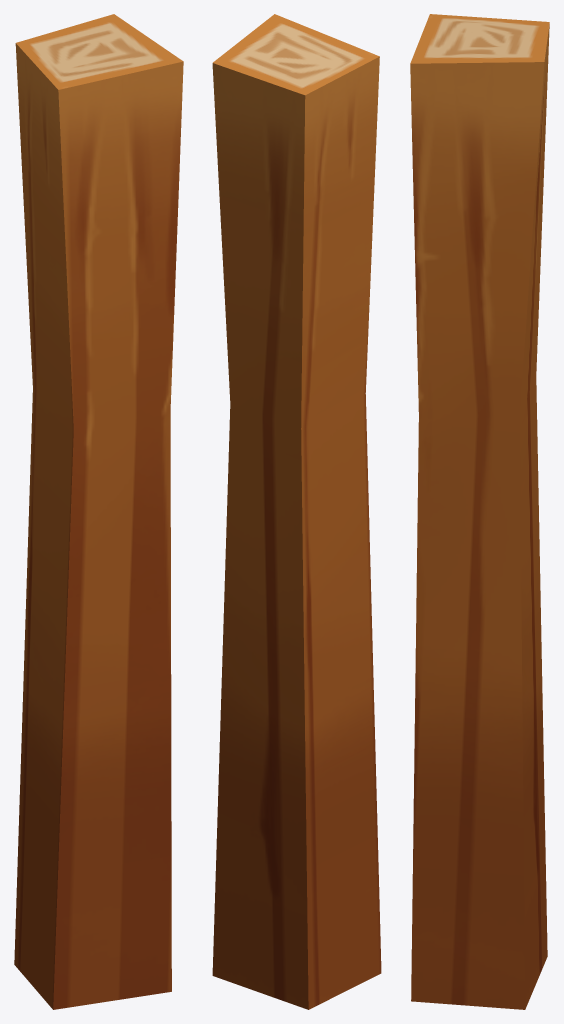
Rendered from port_fence_post.fbx.
The picture shows the model from 3 angles, left to right: view 1: azimuth 30°, elevation 25°; view 2: azimuth 150°, elevation 25°; view 3: azimuth 270°, elevation 25°; orthographic projection. The views are drawn at different scales.
Visible parts, largest first — view 1: port_fence_post; view 2: port_fence_post; view 3: port_fence_post.
Part boxes in pixels (bbox=[...]): port_fence_post: bbox=[14, 14, 183, 1009]; port_fence_post: bbox=[212, 14, 381, 1009]; port_fence_post: bbox=[410, 14, 549, 1009].
Size of the model in its own units: 54.44 by 386 by 51.81.
